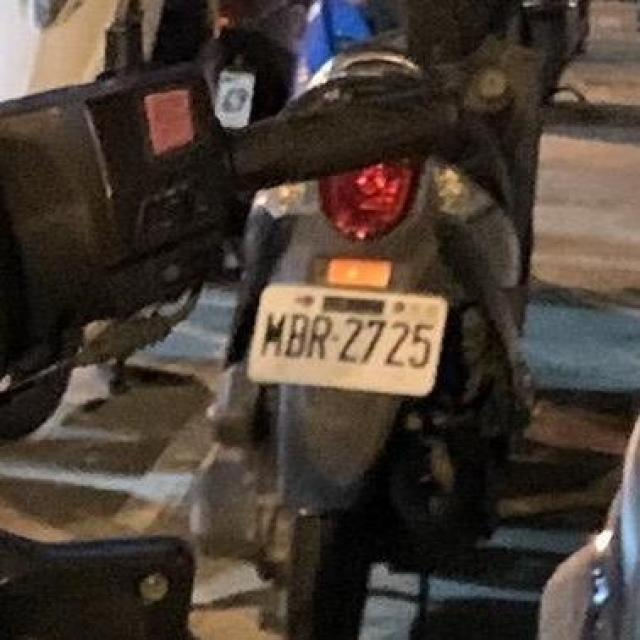W: (245, 271, 450, 399)
